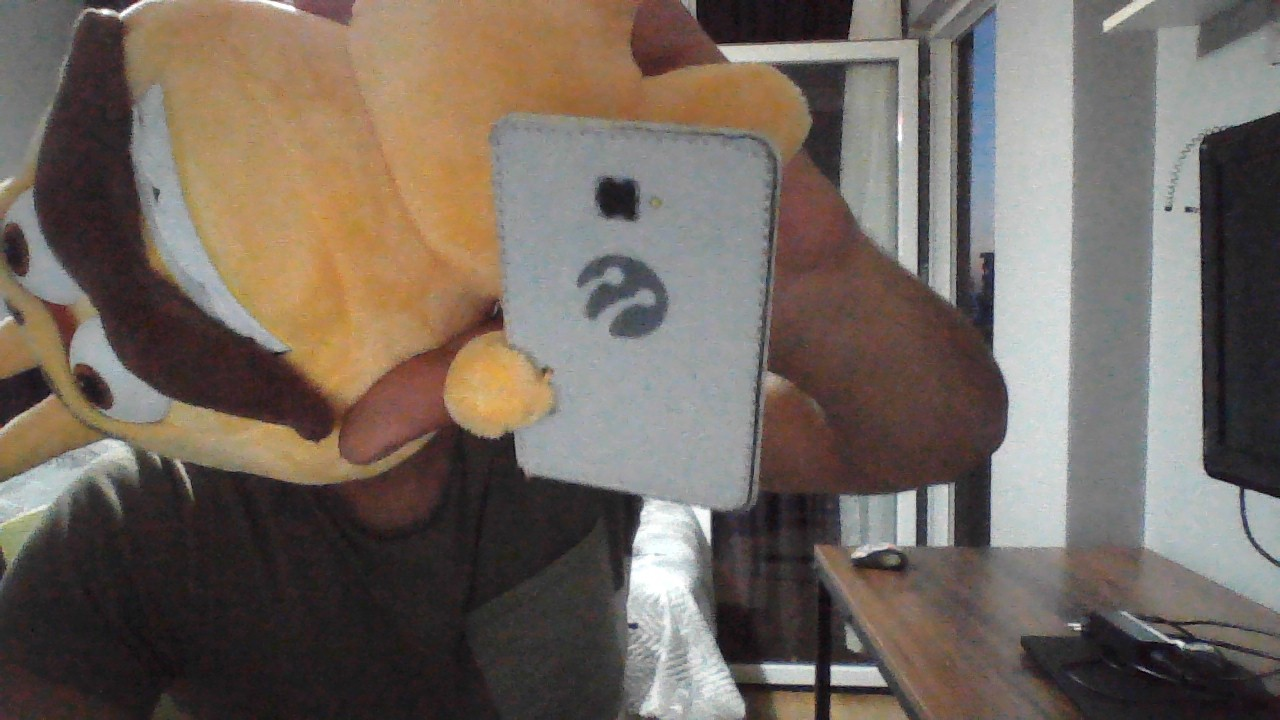turkcell: (571, 249, 673, 349)
